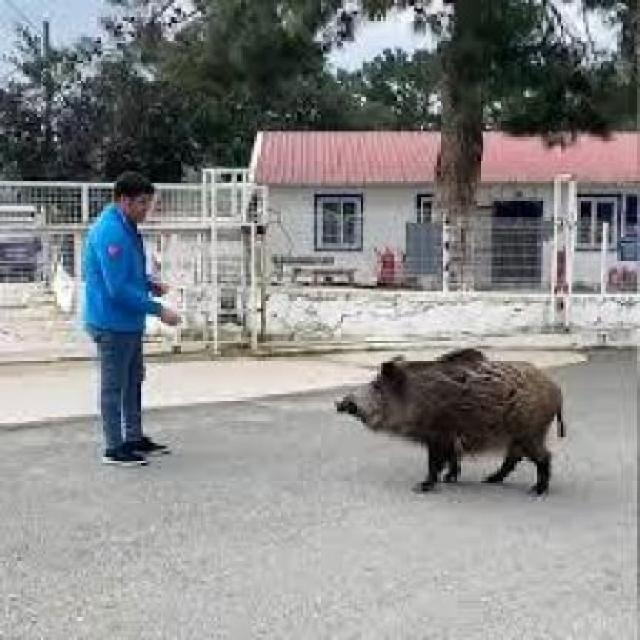wildboar: (328, 338, 588, 498)
